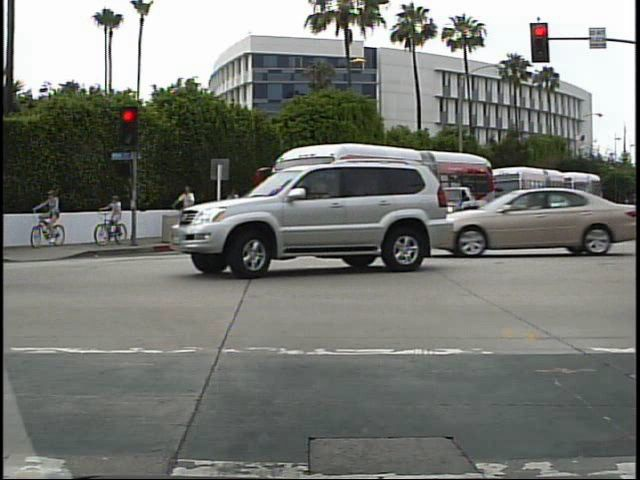person: (100, 194, 126, 248)
